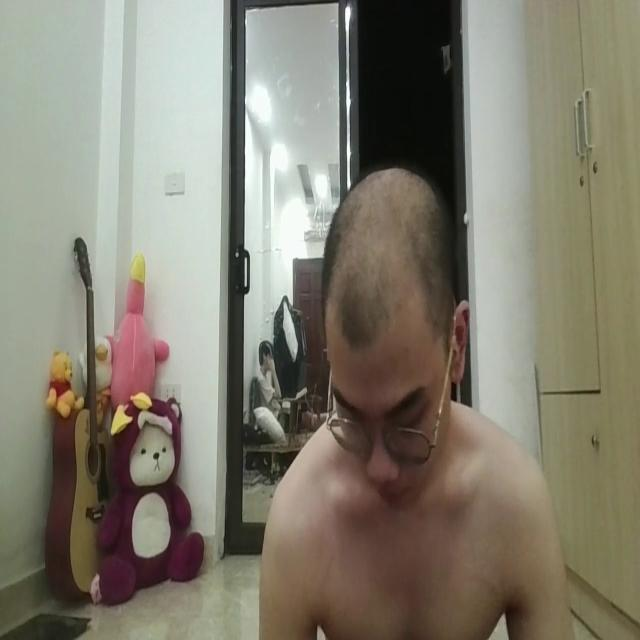student: (260, 152, 578, 640)
